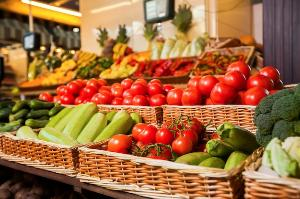tomato: (38, 61, 282, 104), (106, 114, 198, 166)
zucchini: (16, 100, 134, 156), (188, 117, 270, 181)
